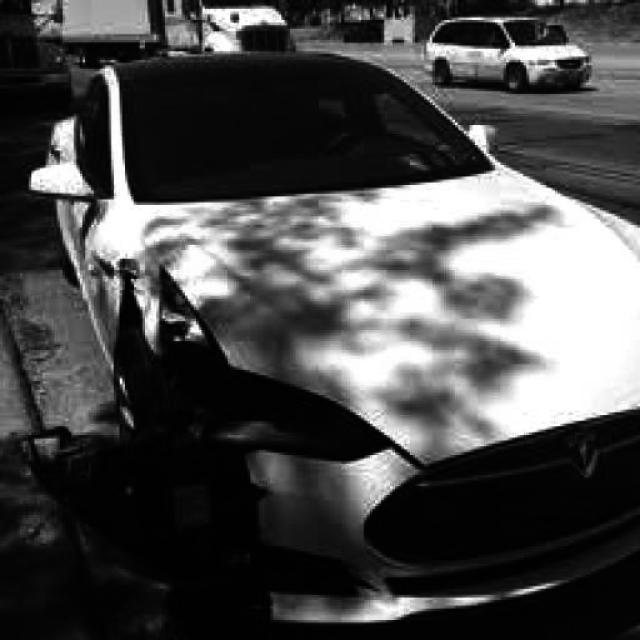car damage: (17, 253, 429, 620)
